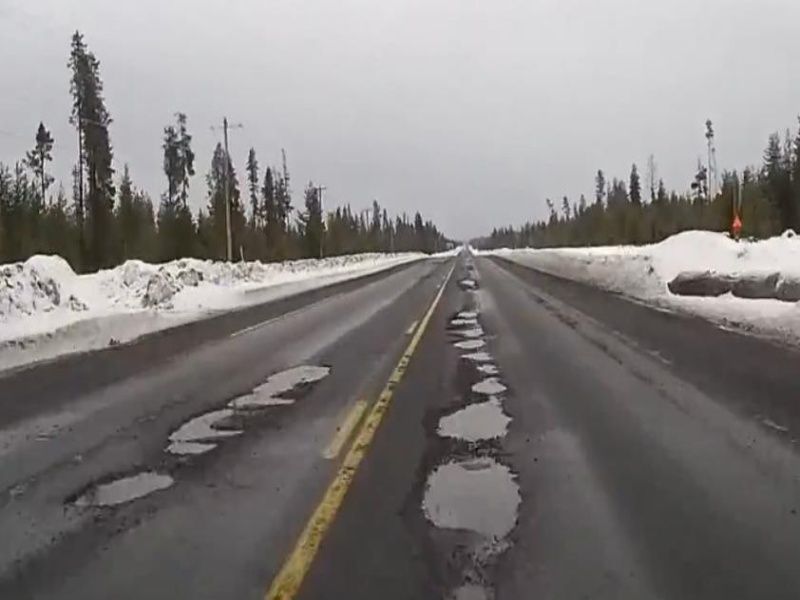pothole: (416, 447, 526, 543), (226, 357, 334, 409), (65, 465, 174, 510), (157, 411, 247, 455), (431, 398, 516, 443), (470, 374, 507, 396), (446, 333, 490, 350), (456, 347, 493, 361), (446, 317, 483, 327), (455, 307, 481, 319), (476, 363, 500, 373)
